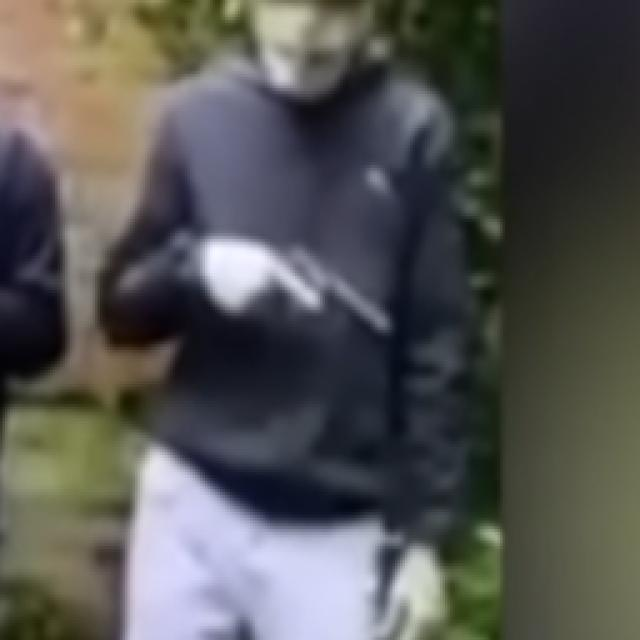FPistol: (270, 235, 394, 349)
